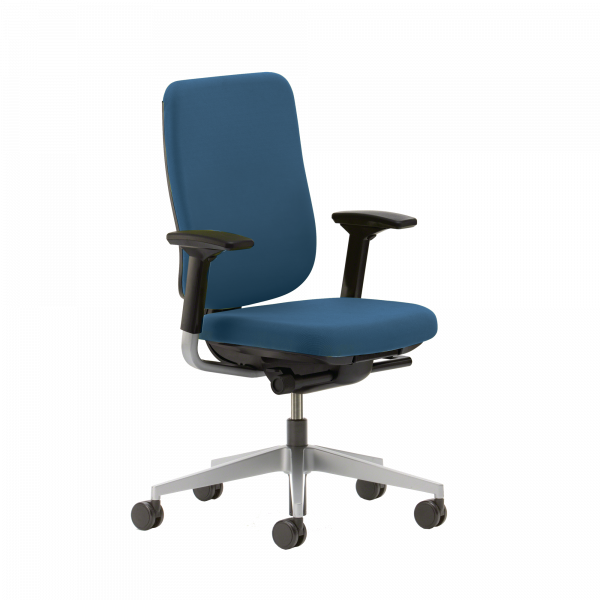chair: (129, 59, 465, 561)
